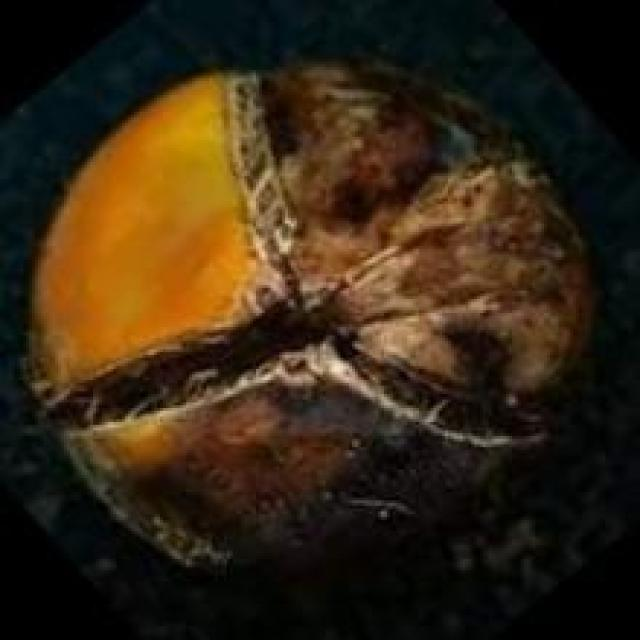damaged: (29, 31, 599, 579)
